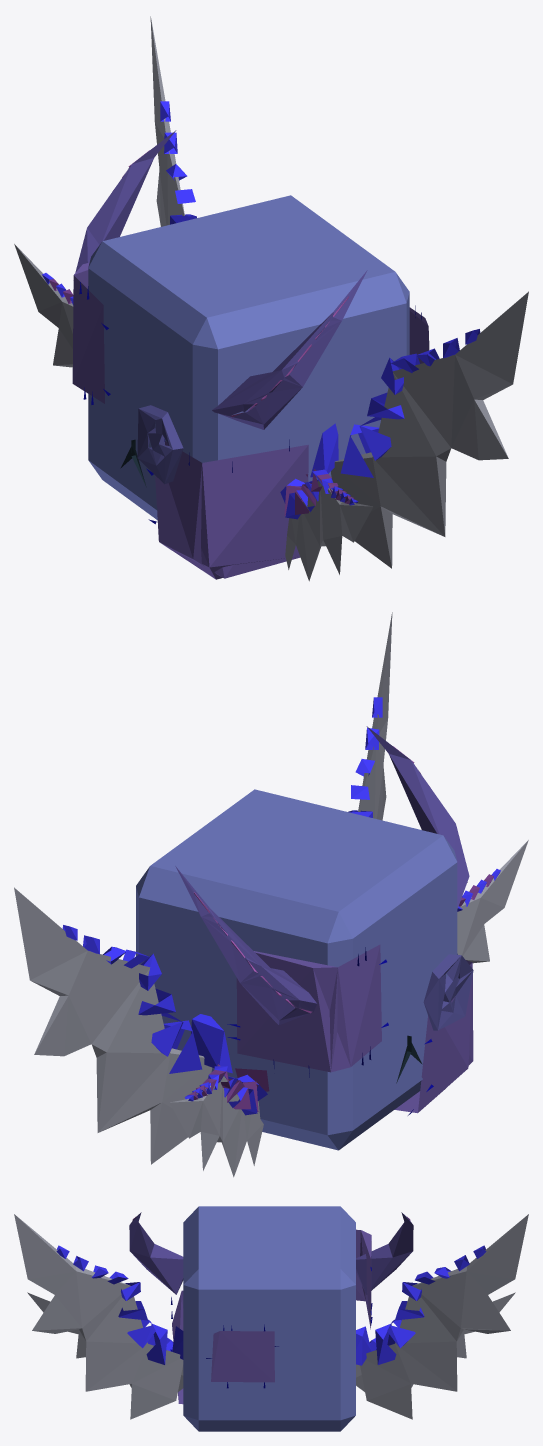
File: StuffedDragonLOW.fbx
3 views of the same model, one above another, from view 1: azimuth 30°, elevation 25°; view 2: azimuth 150°, elevation 25°; view 3: azimuth 270°, elevation 25° (orthographic). The views are drawn at different scales.
Visible parts, largest first — view 1: StuffedDragon, Cube; view 2: StuffedDragon, Cube; view 3: StuffedDragon, Cube.
Part boxes in pixels (<box>): StuffedDragon: <box>14,16,528,581</box>; Cube: <box>88,195,409,519</box>; StuffedDragon: <box>14,612,528,1177</box>; Cube: <box>136,789,457,1150</box>; StuffedDragon: <box>14,1212,528,1419</box>; Cube: <box>183,1206,355,1431</box>.
Size of the model in its own units: 113 by 138 by 278.
